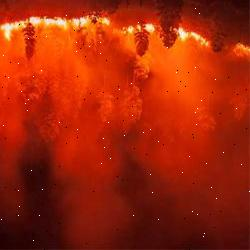fire: (1, 13, 250, 59)
